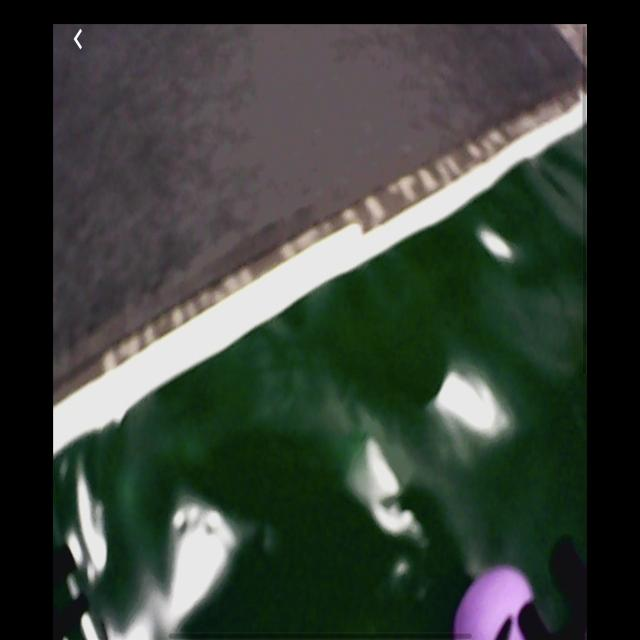ball: (458, 567, 539, 638)
